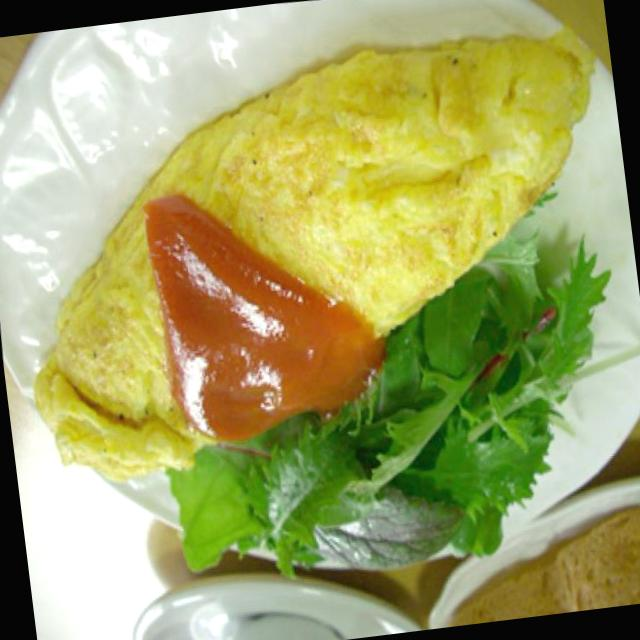Green Salad: (278, 274, 617, 593)
Omelet: (0, 0, 640, 516)
